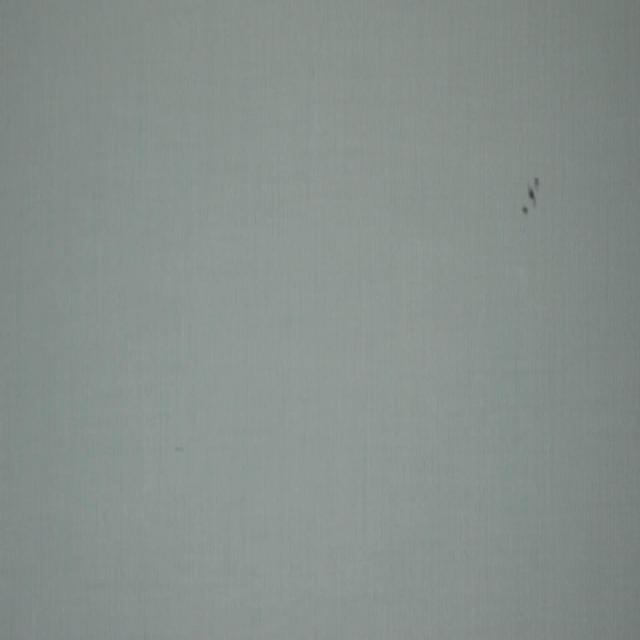dirty: (528, 178, 538, 208), (522, 206, 528, 214)
